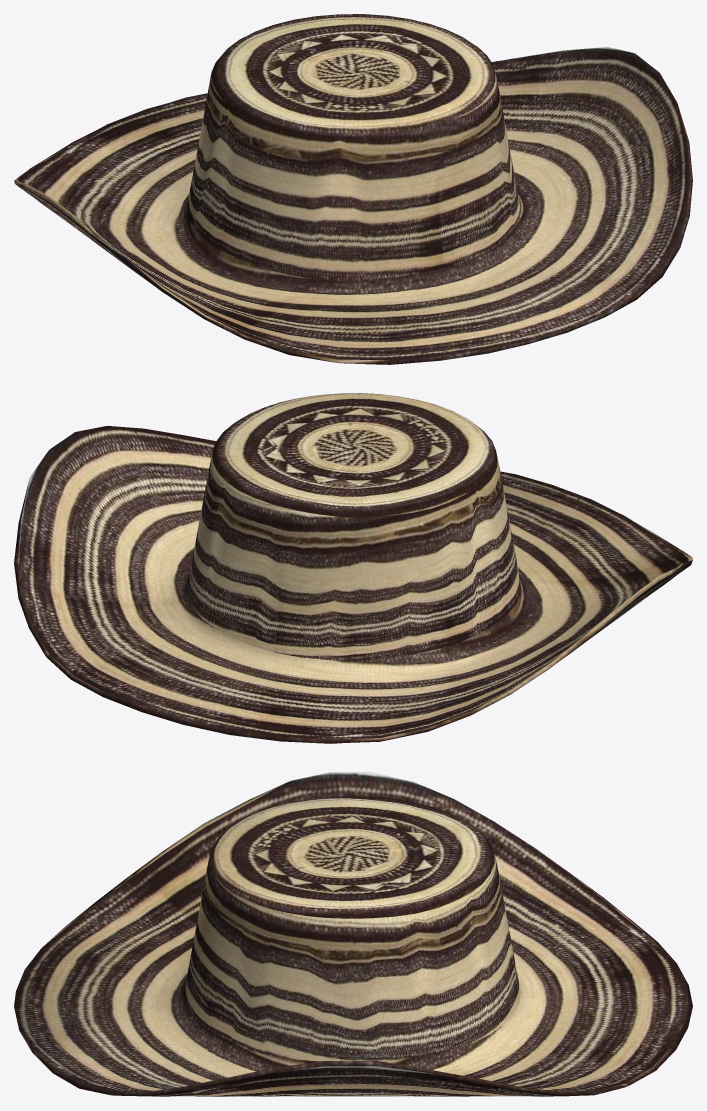
Rendered from sombrero_vueltiao_colombia.lod1.glb.
3 views of the same model, one above another, from view 1: azimuth 30°, elevation 25°; view 2: azimuth 150°, elevation 25°; view 3: azimuth 270°, elevation 25° (orthographic).
Parts seen in each view (by area): view 1: Retopo_Sombrero_Vueltiao[1]; view 2: Retopo_Sombrero_Vueltiao[1]; view 3: Retopo_Sombrero_Vueltiao[1].
Part boxes in pixels (left/top/right/bottom): Retopo_Sombrero_Vueltiao[1]: left=14, top=14, right=692, bottom=364; Retopo_Sombrero_Vueltiao[1]: left=14, top=393, right=692, bottom=743; Retopo_Sombrero_Vueltiao[1]: left=14, top=772, right=692, bottom=1096.
Size of the model in its own units: 0.4888 by 0.1217 by 0.4861.
1 material, 1 textured.
